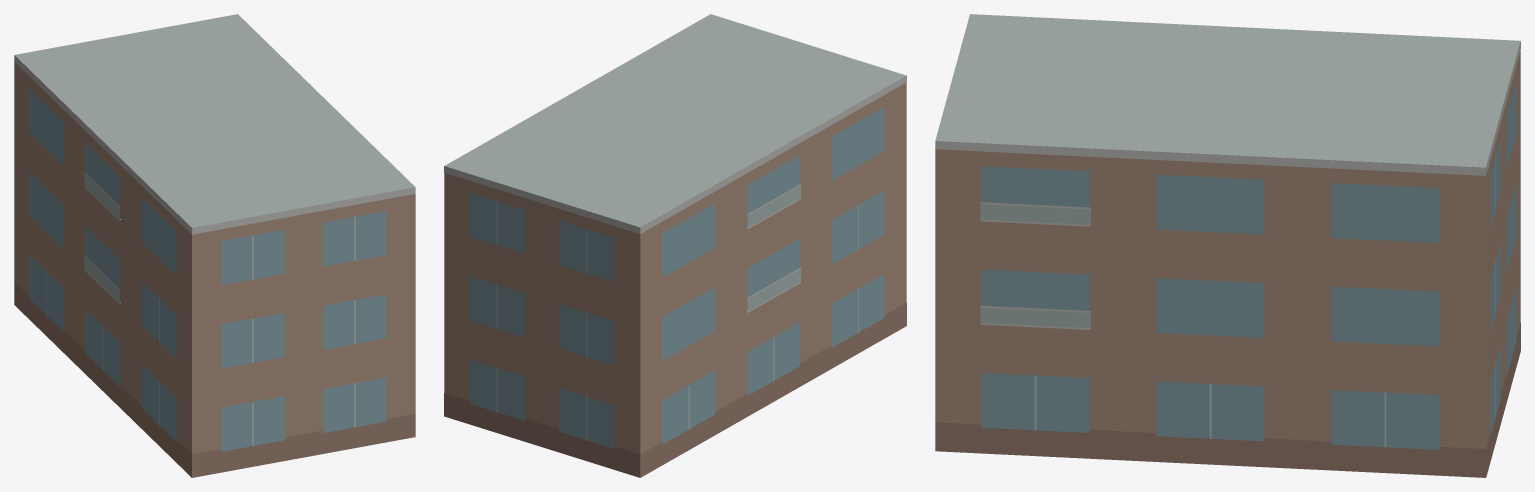
File: survey-upis-32907100.glb
3 views of the same model, side by side, from view 1: azimuth 30°, elevation 25°; view 2: azimuth 150°, elevation 25°; view 3: azimuth 270°, elevation 25° (orthographic). The views are drawn at different scales.
Visible parts, largest first — view 1: survey-upis-32907100.tmp; view 2: survey-upis-32907100.tmp; view 3: survey-upis-32907100.tmp.
Part boxes in pixels (left/top/right/bottom): survey-upis-32907100.tmp: left=14, top=14, right=415, bottom=477; survey-upis-32907100.tmp: left=444, top=14, right=906, bottom=477; survey-upis-32907100.tmp: left=935, top=14, right=1520, bottom=477.
Size of the model in its own units: 9.73 by 9.15 by 15.66.
